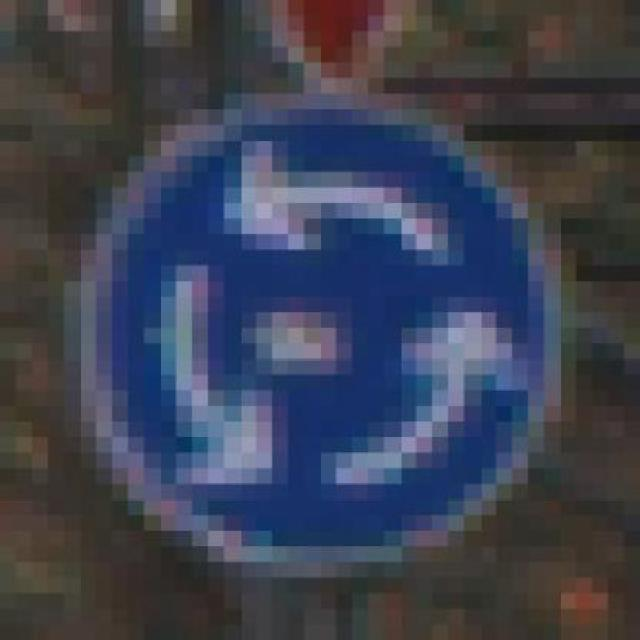Round-About: (64, 47, 576, 593)
